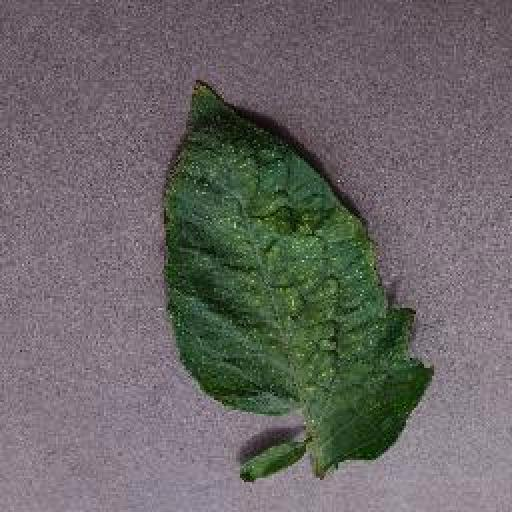disease_tomato: (162, 74, 434, 480)
